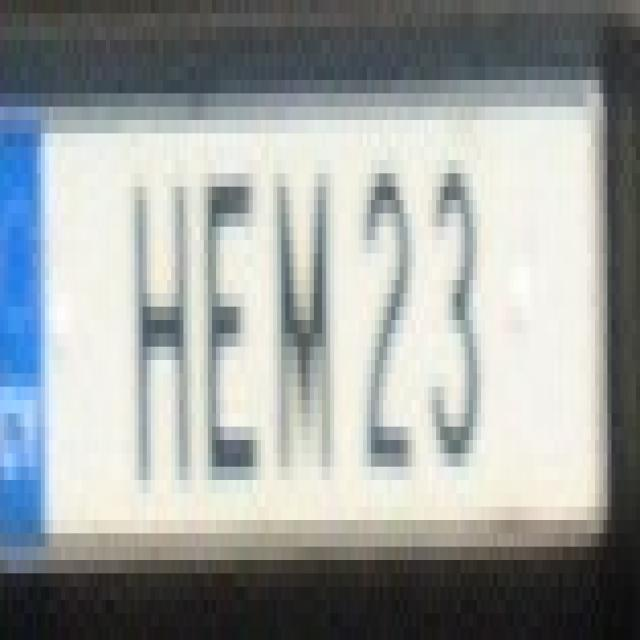2: (346, 133, 424, 467)
3: (408, 120, 490, 453)
E: (188, 147, 269, 480)
H: (118, 147, 192, 480)
M: (260, 133, 342, 480)
